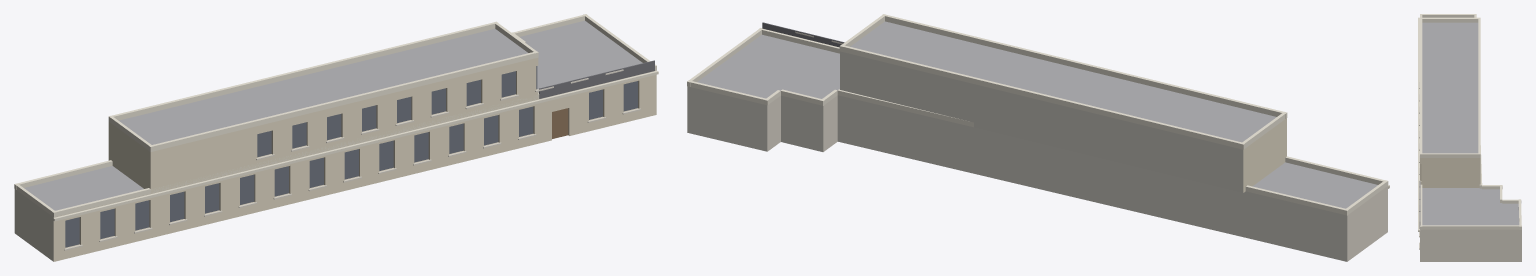
The picture shows the model from 3 angles, left to right: view 1: azimuth 30°, elevation 25°; view 2: azimuth 150°, elevation 25°; view 3: azimuth 270°, elevation 25°; orthographic projection. The views are drawn at different scales.
Parts seen in each view (by area): view 1: CP_110_Masonry, CP_110_Vol_upper, CP_110_VolRoof_upper_Parapet_0, CP_110_VolRoof_upper_Parapet_2, CP_110_Cornice_main_gf_0, CP_110_Roof_Parapet_0, CP_110_Terrace_rail, CP_110_Roof_Parapet_7, CP_110_Roof_Parapet_1, CP_110_Roof_Parapet_2; view 2: CP_110_Masonry, CP_110_Vol_upper, CP_110_VolRoof_upper_Parapet_2, CP_110_VolRoof_upper_Parapet_0, CP_110_Roof_Parapet_0, CP_110_Roof_Parapet_6, CP_110_Roof_Parapet_7, CP_110_Roof_Parapet_1, CP_110_Roof_Parapet_2, CP_110_Terrace_rail; view 3: CP_110_Vol_upper, CP_110_Masonry, CP_110_Roof_Parapet_1, CP_110_VolRoof_upper_Parapet_0, CP_110_VolRoof_upper_Parapet_2, CP_110_Cornice_main_gf_0, CP_110_VolRoof_upper_Parapet_3, CP_110_VolRoof_upper_Parapet_1, CP_110_Roof_Parapet_8, CP_110_Roof_Parapet_0, CP_110_Roof_Parapet_2, CP_110_Roof_Parapet_5 (+3 smaller).
Part boxes in pixels (x1,y1,x2,y2): CP_110_Masonry: (14,20,656,261); CP_110_Vol_upper: (108,29,538,193); CP_110_VolRoof_upper_Parapet_0: (149,51,538,151); CP_110_VolRoof_upper_Parapet_2: (108,22,497,122); CP_110_Cornice_main_gf_0: (53,70,658,221); CP_110_Roof_Parapet_0: (52,64,656,216); CP_110_Terrace_rail: (539,60,654,98); CP_110_Roof_Parapet_7: (14,160,111,189); CP_110_Roof_Parapet_1: (583,14,656,70); CP_110_Roof_Parapet_2: (512,14,587,36); CP_110_Masonry: (687,34,1387,261); CP_110_Vol_upper: (840,21,1286,192); CP_110_VolRoof_upper_Parapet_2: (839,45,1245,149); CP_110_VolRoof_upper_Parapet_0: (882,14,1287,118); CP_110_Roof_Parapet_0: (759,28,1388,186); CP_110_Roof_Parapet_6: (837,89,1248,191); CP_110_Roof_Parapet_7: (1246,185,1349,215); CP_110_Roof_Parapet_1: (687,28,762,86); CP_110_Roof_Parapet_2: (687,80,769,105); CP_110_Terrace_rail: (762,22,844,47); CP_110_Vol_upper: (1420,22,1480,187); CP_110_Masonry: (1420,188,1521,261); CP_110_Roof_Parapet_1: (1420,225,1521,229); CP_110_VolRoof_upper_Parapet_0: (1420,17,1422,157); CP_110_VolRoof_upper_Parapet_2: (1478,17,1480,157); CP_110_Cornice_main_gf_0: (1418,17,1420,231); CP_110_VolRoof_upper_Parapet_3: (1422,17,1478,22); CP_110_VolRoof_upper_Parapet_1: (1420,153,1480,157); CP_110_Roof_Parapet_8: (1421,14,1476,17); CP_110_Roof_Parapet_0: (1420,14,1422,229); CP_110_Roof_Parapet_2: (1518,199,1521,229); CP_110_Roof_Parapet_5: (1482,185,1502,189).
Bounding box in the file's own units: 62.3 × 9 × 12.87.
